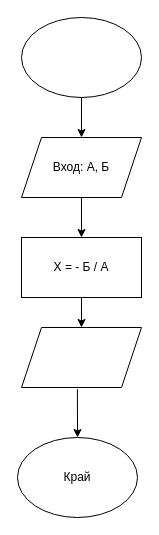
This 159x535 diagram has some shape labels left out. The box of each missing label's shape, as (x1, y1, x2, y2) in pixels:
Изход: Х: (20, 326, 142, 388)
Начало: (20, 16, 142, 98)
